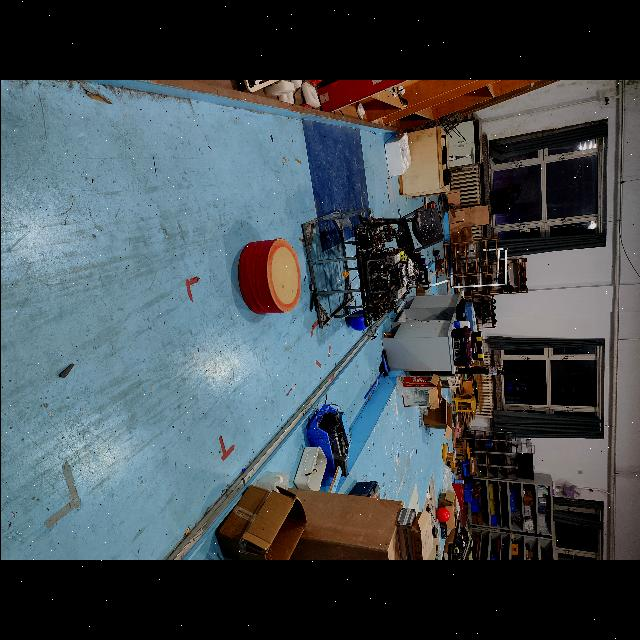B: (348, 310, 368, 330)
R: (435, 508, 449, 522)
